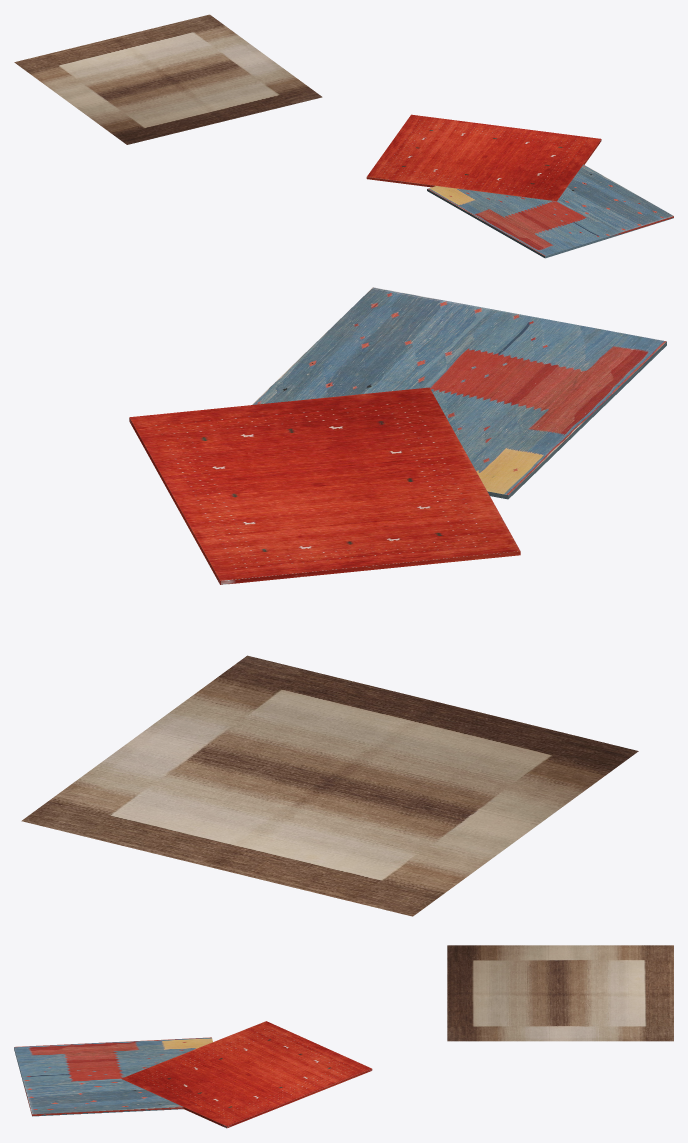
The model's file is tapis.glb.
The picture shows the model from 3 angles, top to bottom: view 1: azimuth 30°, elevation 25°; view 2: azimuth 150°, elevation 25°; view 3: azimuth 270°, elevation 25°; orthographic projection. The views are drawn at different scales.
Visible parts, largest first — view 1: floor2.002, Cube.023, Cube.022; view 2: floor2.002, Cube.023, Cube.022; view 3: floor2.002, Cube.023, Cube.022.
Part boxes in pixels (bbox=[...]): floor2.002: bbox=[14, 14, 322, 144]; Cube.023: bbox=[366, 114, 601, 201]; Cube.022: bbox=[427, 164, 673, 258]; floor2.002: bbox=[21, 655, 638, 916]; Cube.023: bbox=[129, 387, 520, 584]; Cube.022: bbox=[252, 287, 666, 499]; floor2.002: bbox=[447, 945, 673, 1041]; Cube.023: bbox=[121, 1021, 372, 1128]; Cube.022: bbox=[14, 1037, 212, 1116].
Bounding box in the file's own units: 7.45 × 0.0904 × 11.64.
Materials: 3 (3 with a texture image).
